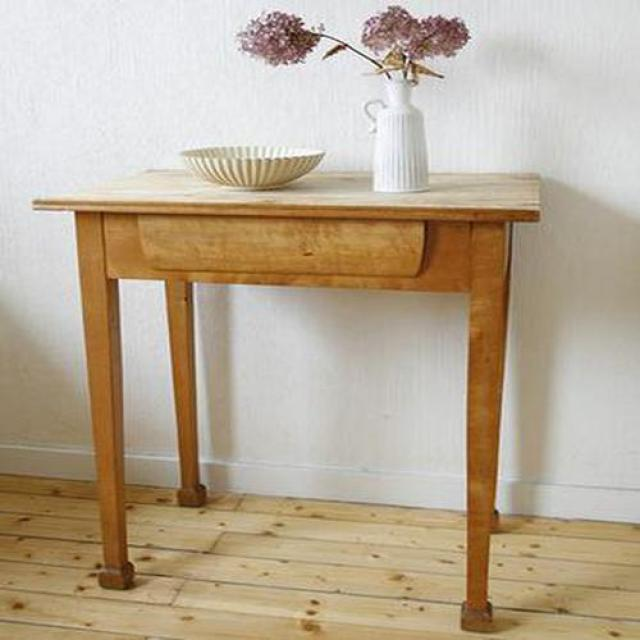table: (32, 174, 543, 591)
